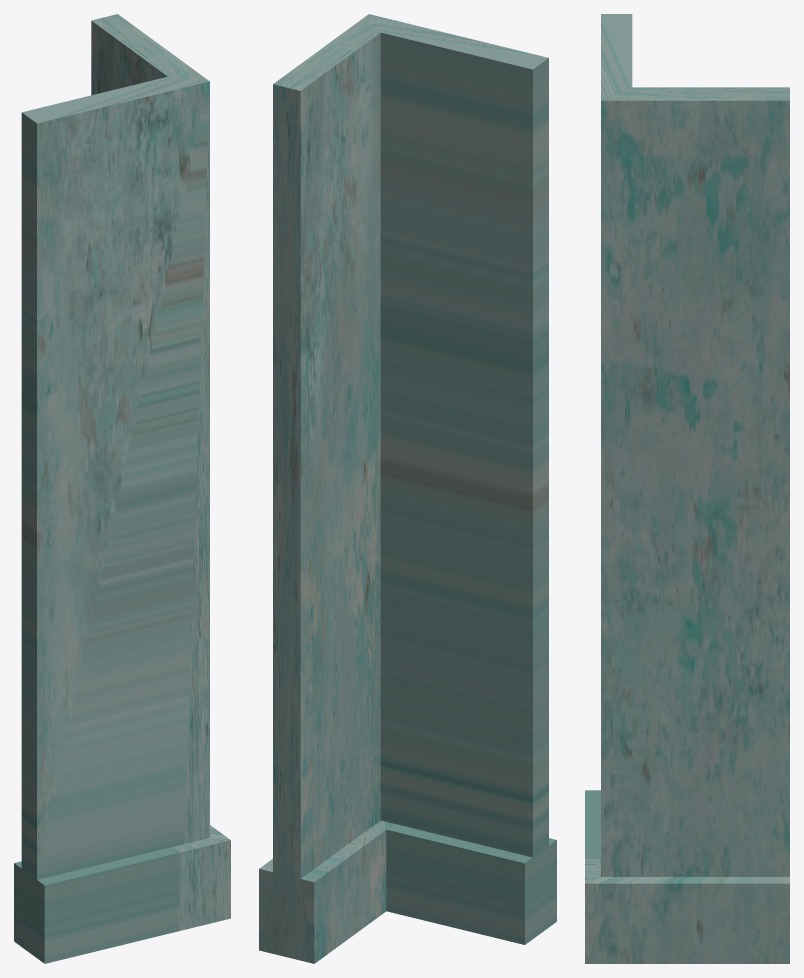
The model's file is Wall_Conner.glb.
3 views of the same model, side by side, from view 1: azimuth 30°, elevation 25°; view 2: azimuth 150°, elevation 25°; view 3: azimuth 270°, elevation 25° (orthographic). The views are drawn at different scales.
Visible parts, largest first — view 1: Wall Conner; view 2: Wall Conner; view 3: Wall Conner.
Boxes of the visible parts, x1=… form: Wall Conner: x1=14, y1=14, x2=230, y2=963; Wall Conner: x1=259, y1=14, x2=556, y2=963; Wall Conner: x1=585, y1=14, x2=789, y2=963.
Bounding box in the file's own units: 0.7 × 3 × 0.65.
Materials: 1 (1 with a texture image).
